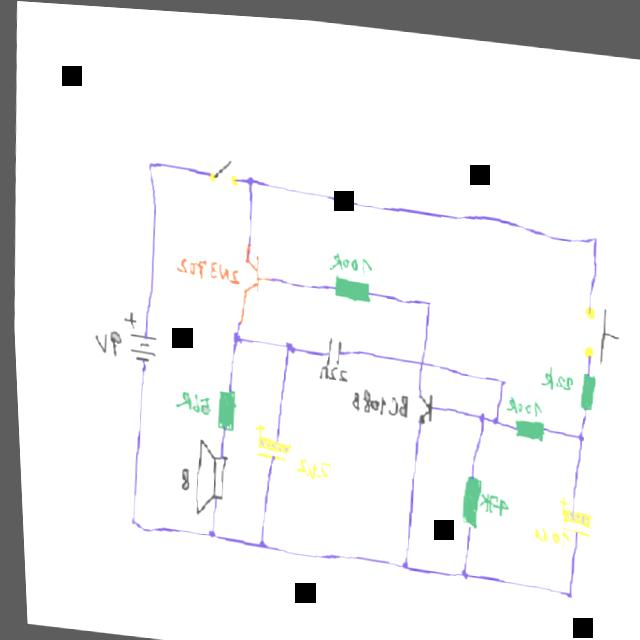capacitor: (247, 415, 292, 461), (550, 485, 591, 529), (319, 329, 343, 365)
crossover: (414, 349, 425, 362)
junction: (585, 221, 601, 239), (142, 153, 158, 170), (123, 510, 136, 528), (228, 324, 242, 340), (280, 333, 294, 349), (201, 522, 215, 537), (474, 401, 486, 416), (252, 531, 264, 546), (493, 366, 506, 379), (454, 559, 466, 573), (395, 551, 407, 565), (559, 578, 571, 591), (243, 168, 254, 182), (572, 422, 584, 434), (487, 405, 498, 418), (422, 290, 431, 301)
resistor: (452, 464, 482, 524), (328, 265, 373, 299), (211, 381, 237, 428), (571, 360, 596, 408), (508, 406, 544, 434)
source: (118, 305, 159, 365)
switch: (571, 287, 624, 362), (208, 150, 239, 183)
text: (348, 379, 408, 413), (172, 251, 238, 279), (291, 448, 331, 478), (327, 244, 373, 270), (170, 384, 211, 412), (536, 353, 574, 383), (310, 356, 346, 384), (90, 323, 121, 355), (502, 385, 541, 410), (527, 515, 567, 538), (476, 481, 507, 510), (174, 461, 188, 487)
transistor: (236, 247, 261, 292), (411, 383, 432, 417)
